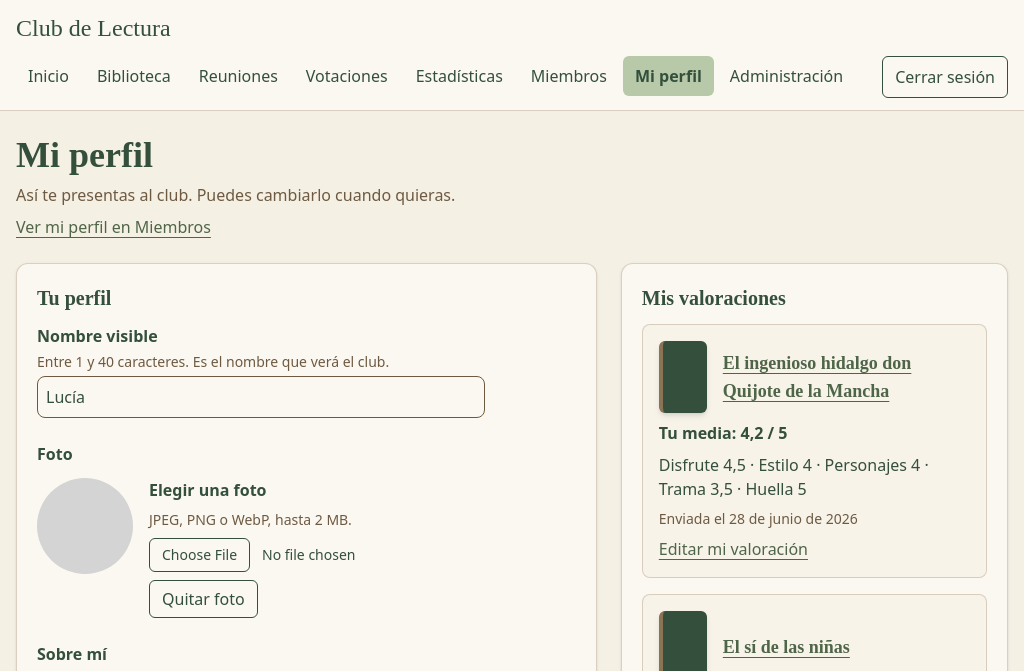
Test: Profile form: avatar › sets a pending removal with «Quitar foto» and restores the saved photo with «Mantener la foto actual»
Expected: the field labelled "Nombre visible" is shown, [37, 376, 485, 418]
Click the button "Quitar foto". click: [203, 599]
box: [149, 580, 258, 618]
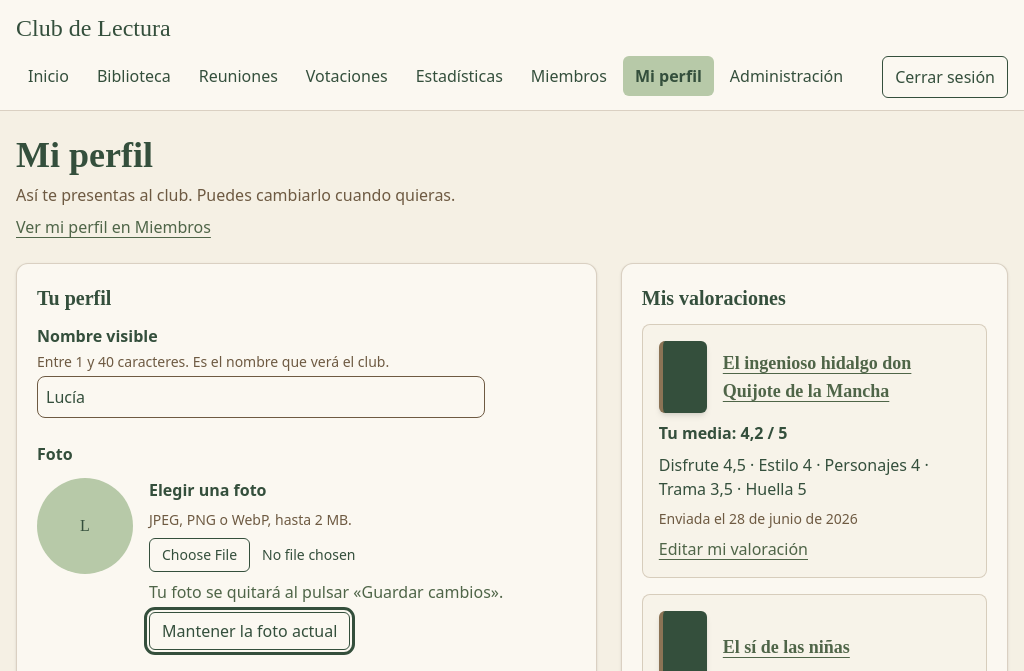
Expected: the text "Tu foto se quitará al pulsar «Guardar cambios»." is shown, [149, 581, 503, 603]
Expected: the button "Quitar foto" is gone
Click the button "Mantener la foto actual". click: [250, 631]
box: [149, 612, 350, 650]
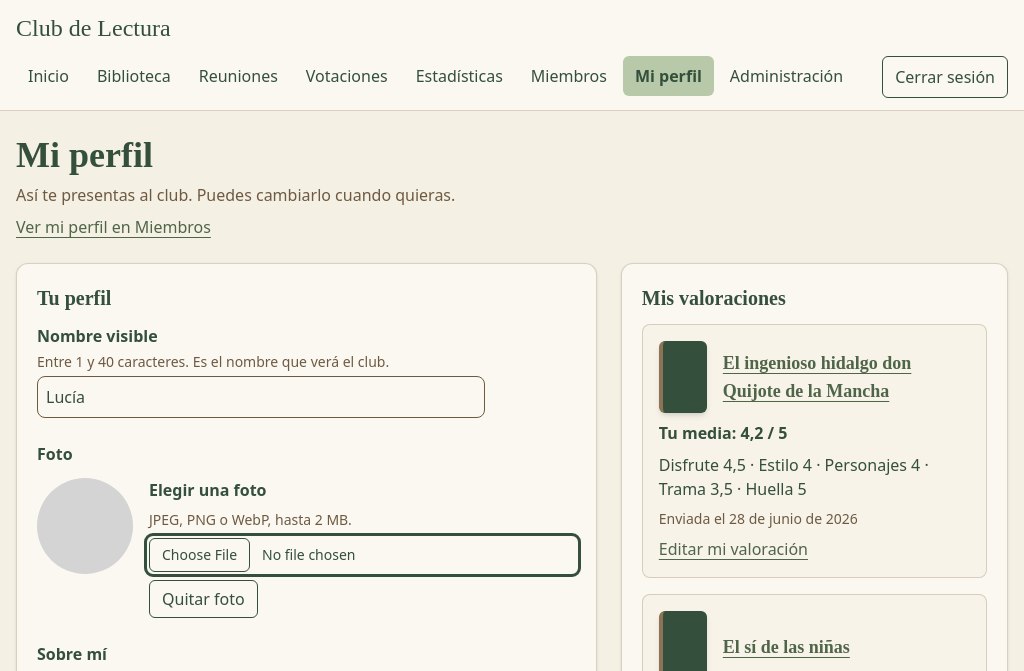
Expected: the text "se quitará" is gone
